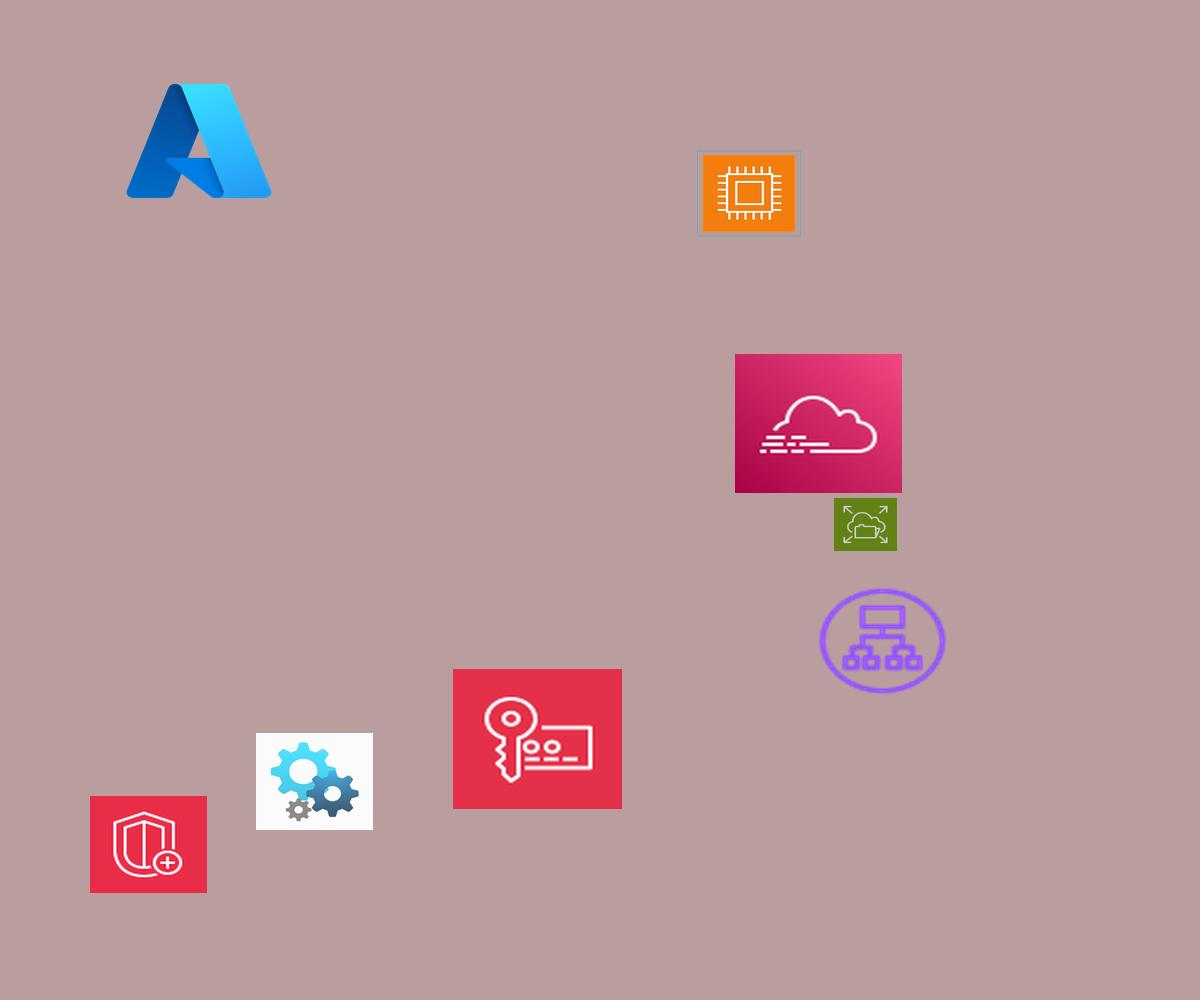AWS-Category_Compute: (697, 150, 801, 237)
AWS-CloudTrail: (735, 354, 902, 493)
AWS-EFS: (834, 498, 897, 551)
AWS-Key-Management-Service: (453, 669, 622, 809)
AWS-Res_Elastic-Load-Balancing_Application-Load-Balancer: (814, 584, 951, 698)
AWS-Shield: (90, 796, 207, 893)
Azure_api: (256, 733, 373, 830)
Azure_services: (120, 75, 278, 207)
